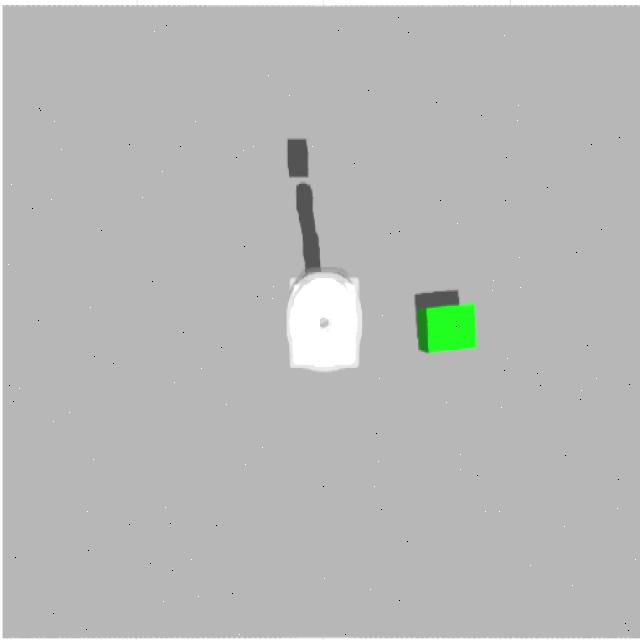box: (417, 292, 475, 353)
